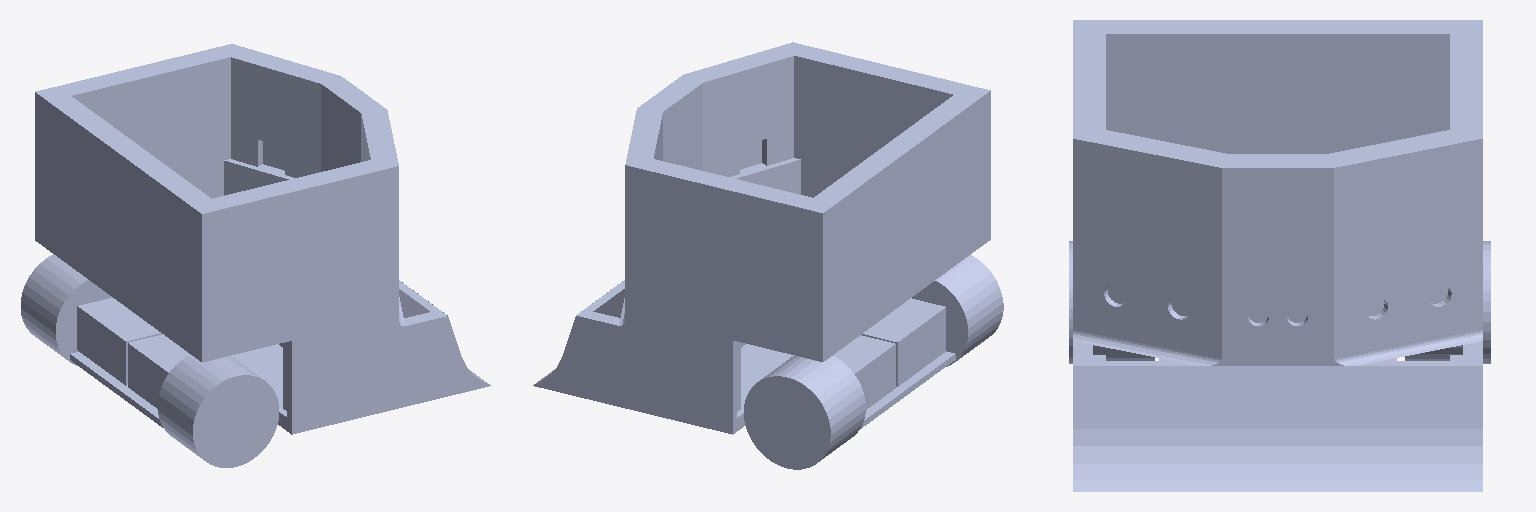
The robot description file, URDF, robot "Resqube_ensamblaje":
<?xml version="1.0" encoding="utf-8"?>
<!-- This URDF was automatically created by SolidWorks to URDF Exporter! Originally created by Stephen Brawner (brawner@gmail.com) 
     Commit Version: 1.6.0-4-g7f85cfe  Build Version: 1.6.7995.38578
     For more information, please see http://wiki.ros.org/sw_urdf_exporter -->
<robot
  name="Resqube_ensamblaje">
  <link
    name="base_link">
    <inertial>
      <origin
        xyz="-0.0077226 2.2038E-05 0.039426"
        rpy="0 0 0" />
      <mass
        value="0.18039" />
      <inertia
        ixx="0.00029984"
        ixy="5.4554E-08"
        ixz="3.0558E-05"
        iyy="0.00023582"
        iyz="-1.1356E-07"
        izz="0.00035246" />
    </inertial>
    <visual>
      <origin
        xyz="0 0 0"
        rpy="0 0 0" />
      <geometry>
        <mesh
          filename="package://Resqube_ensamblaje/meshes/base_link.STL" />
      </geometry>
      <material
        name="">
        <color
          rgba="0.79216 0.81961 0.93333 1" />
      </material>
    </visual>
    <collision>
      <origin
        xyz="0 0 0"
        rpy="0 0 0" />
      <geometry>
        <mesh
          filename="package://Resqube_ensamblaje/meshes/base_link.STL" />
      </geometry>
    </collision>
  </link>
  <link
    name="rueda_der_Link">
    <inertial>
      <origin
        xyz="3.8164E-17 -6.9389E-18 -0.009453"
        rpy="0 0 0" />
      <mass
        value="0.014718" />
      <inertia
        ixx="1.3755E-06"
        ixy="-1.0588E-22"
        ixz="-4.412E-23"
        iyy="1.3755E-06"
        iyz="2.7363E-23"
        izz="1.6697E-06" />
    </inertial>
    <visual>
      <origin
        xyz="0 0 0"
        rpy="0 0 0" />
      <geometry>
        <mesh
          filename="package://Resqube_ensamblaje/meshes/rueda_der_Link.STL" />
      </geometry>
      <material
        name="">
        <color
          rgba="0.79216 0.81961 0.93333 1" />
      </material>
    </visual>
    <collision>
      <origin
        xyz="0 0 0"
        rpy="0 0 0" />
      <geometry>
        <mesh
          filename="package://Resqube_ensamblaje/meshes/rueda_der_Link.STL" />
      </geometry>
    </collision>
  </link>
  <joint
    name="rueda_der_joint"
    type="continuous">
    <origin
      xyz="-0.038712 -0.05 0.0073"
      rpy="1.5708 -0.59492 0" />
    <parent
      link="base_link" />
    <child
      link="rueda_der_Link" />
    <axis
      xyz="0 0 1" />
    <limit
      effort="100"
      velocity="100" />
    <dynamics
      damping="0.1"
      friction="0.1" />
  </joint>
  <link
    name="rueda_izq_Link">
    <inertial>
      <origin
        xyz="1.3878E-17 -2.6021E-17 -0.010547"
        rpy="0 0 0" />
      <mass
        value="0.014718" />
      <inertia
        ixx="1.3755E-06"
        ixy="0"
        ixz="1.0421E-22"
        iyy="1.3755E-06"
        iyz="-1.2799E-22"
        izz="1.6697E-06" />
    </inertial>
    <visual>
      <origin
        xyz="0 0 0"
        rpy="0 0 0" />
      <geometry>
        <mesh
          filename="package://Resqube_ensamblaje/meshes/rueda_izq_Link.STL" />
      </geometry>
      <material
        name="">
        <color
          rgba="0.79216 0.81961 0.93333 1" />
      </material>
    </visual>
    <collision>
      <origin
        xyz="0 0 0"
        rpy="0 0 0" />
      <geometry>
        <mesh
          filename="package://Resqube_ensamblaje/meshes/rueda_izq_Link.STL" />
      </geometry>
    </collision>
  </link>
  <joint
    name="rueda_izq_joint"
    type="continuous">
    <origin
      xyz="-0.038712 0.031 0.0073"
      rpy="1.5708 1.3691 0" />
    <parent
      link="base_link" />
    <child
      link="rueda_izq_Link" />
    <axis
      xyz="0 0 -1" />
    <limit
      effort="100"
      velocity="100" />
    <dynamics
      damping="0.1"
      friction="0.1" />
  </joint>
</robot>

--- Facts derived from the render (not from the file) ---
The picture shows the robot from 3 angles, left to right: view 1: azimuth 30°, elevation 25°; view 2: azimuth 150°, elevation 25°; view 3: azimuth 270°, elevation 25°; orthographic projection.
Model Resqube_ensamblaje with 3 links and 2 joints (2 continuous), rooted at base_link, posed every joint at zero.
Visible links, largest first — view 1: base_link, rueda_der_Link, rueda_izq_Link; view 2: base_link, rueda_izq_Link, rueda_der_Link; view 3: base_link, rueda_izq_Link, rueda_der_Link.
Boxes of the visible links, x1,y1,x2,y2 form: base_link: (35, 44, 490, 434); rueda_der_Link: (158, 355, 278, 467); rueda_izq_Link: (21, 254, 112, 365); base_link: (533, 42, 990, 434); rueda_izq_Link: (744, 356, 865, 469); rueda_der_Link: (912, 255, 1003, 366); base_link: (1073, 20, 1482, 491); rueda_izq_Link: (1405, 241, 1490, 363); rueda_der_Link: (1069, 241, 1154, 363).
Size in the robot's own frame: 0.1038 by 0.103 by 0.0857 metres.
3 mesh visuals loaded from 3 distinct referenced files (3 binary STL).
